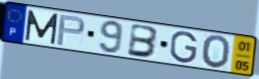9: (98, 19, 125, 55)
B: (126, 22, 161, 59)
G: (168, 30, 199, 64)
M: (24, 8, 60, 46)
O: (201, 34, 232, 70)
P: (55, 14, 87, 48)
